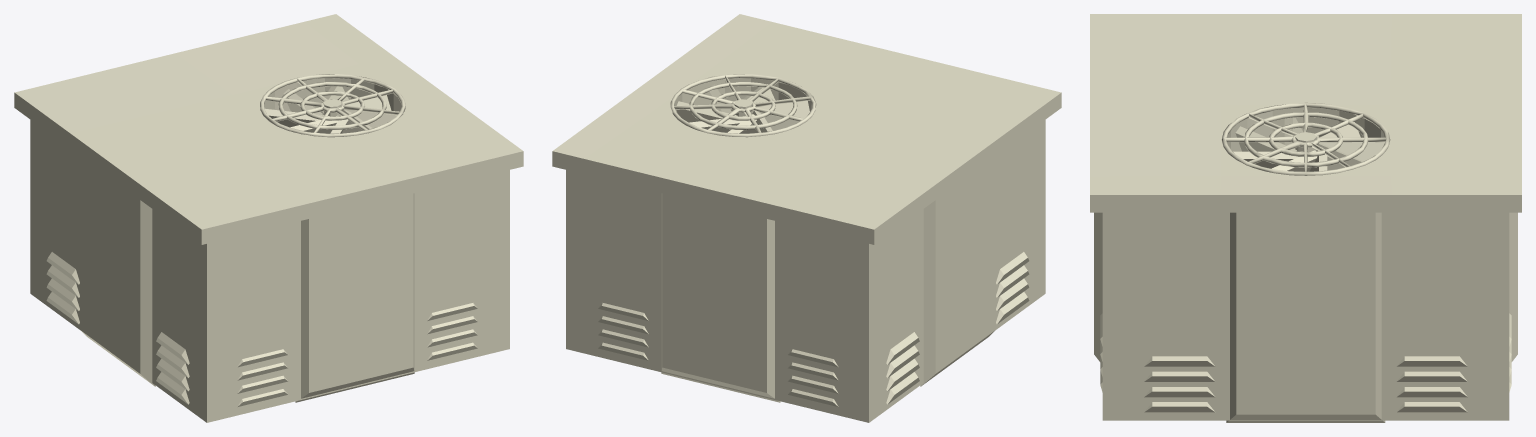
File: FanBox.fbx
3 renders of one model, left to right at view 1: azimuth 30°, elevation 25°; view 2: azimuth 150°, elevation 25°; view 3: azimuth 270°, elevation 25°, orthographic. The views are drawn at different scales.
Visible parts, largest first — view 1: FanBox, Fan; view 2: FanBox, Fan; view 3: FanBox, Fan.
Boxes of the visible parts, x1=… form: FanBox: x1=14, y1=14, x2=523, y2=422; Fan: x1=264, y1=86, x2=396, y2=133; FanBox: x1=552, y1=14, x2=1061, y2=422; Fan: x1=676, y1=84, x2=809, y2=133; FanBox: x1=1090, y1=14, x2=1521, y2=422; Fan: x1=1233, y1=117, x2=1384, y2=171.
Bounding box in the file's own units: 509 × 313 × 513.
